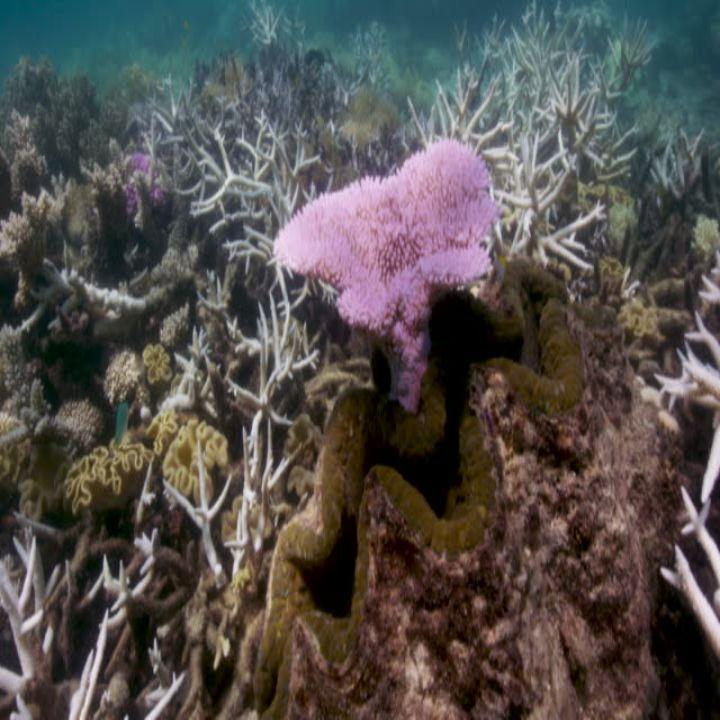Bleached disease: (5, 541, 232, 719)
Healthy Coral: (268, 135, 517, 379)
